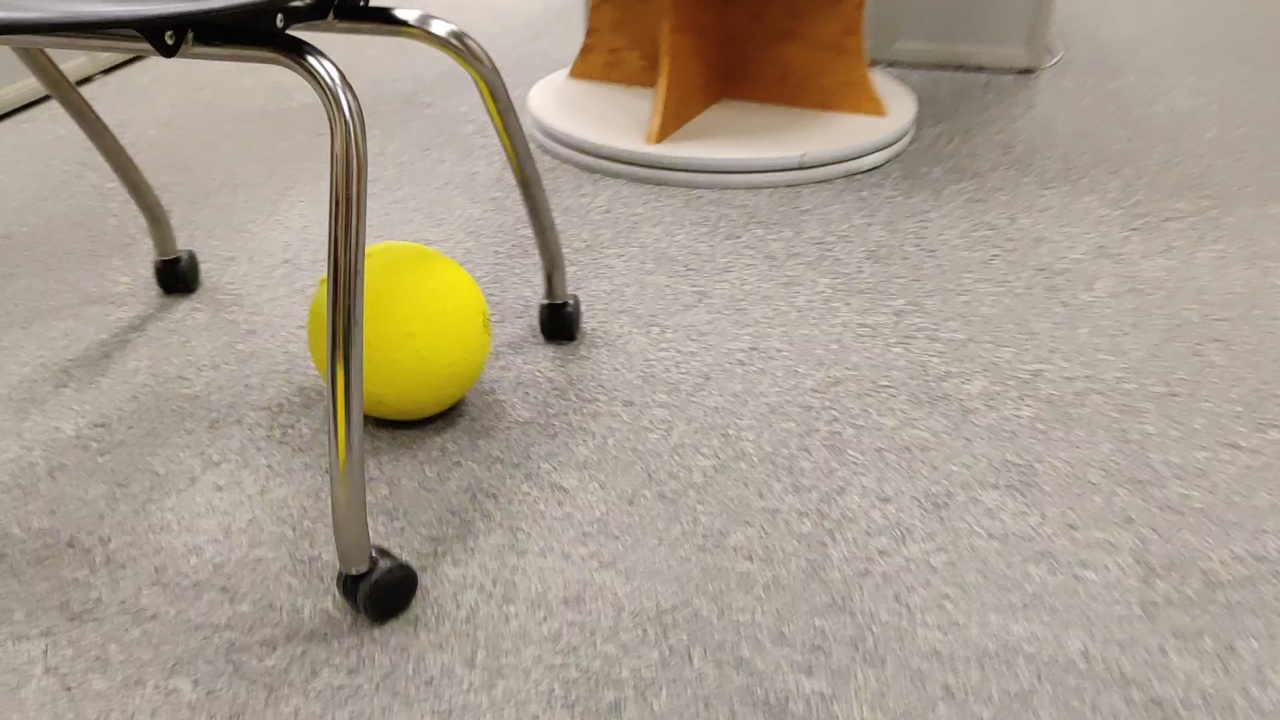Ball: (314, 240, 494, 426)
